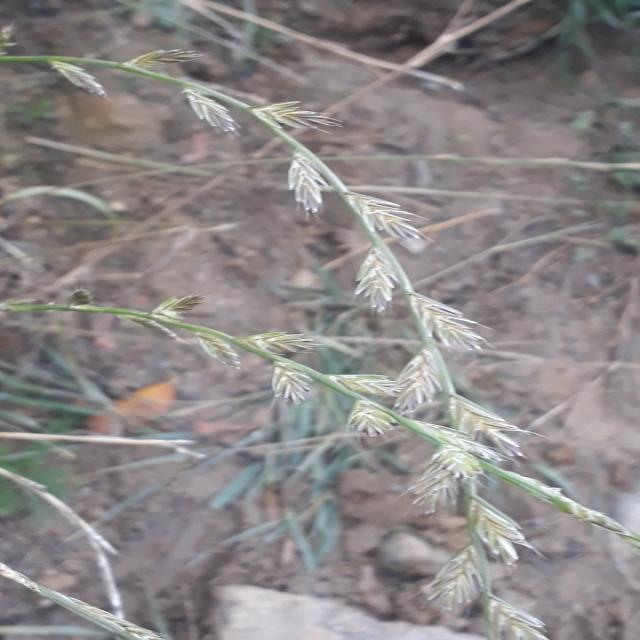Lolium: (4, 28, 634, 637)
